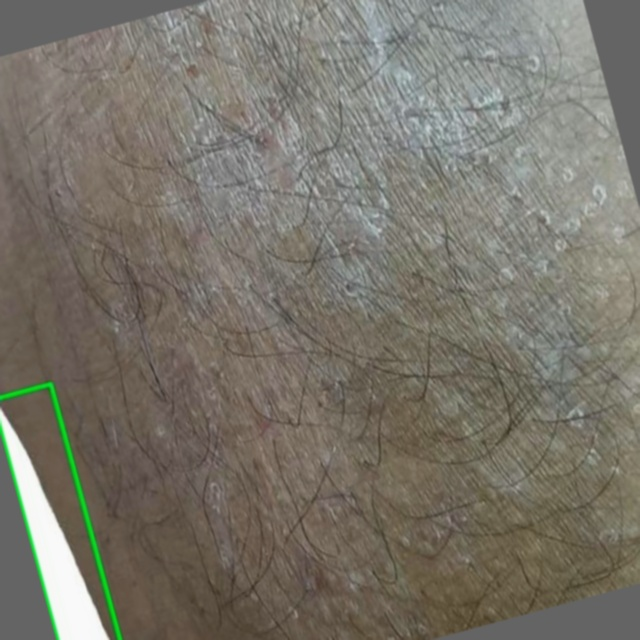Contact Dermatitis: (0, 383, 121, 639)
